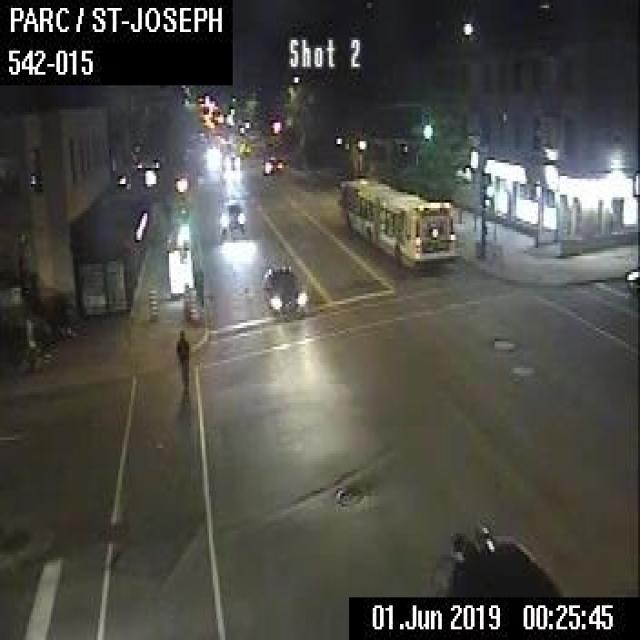bus: (336, 173, 458, 270)
construction: (187, 285, 198, 320), (147, 286, 157, 319), (183, 280, 188, 312)
pedestrian: (175, 328, 189, 387)
vehicle: (445, 522, 560, 594), (260, 259, 307, 317), (218, 194, 246, 234), (622, 262, 638, 294), (260, 155, 282, 176), (220, 149, 238, 168)
